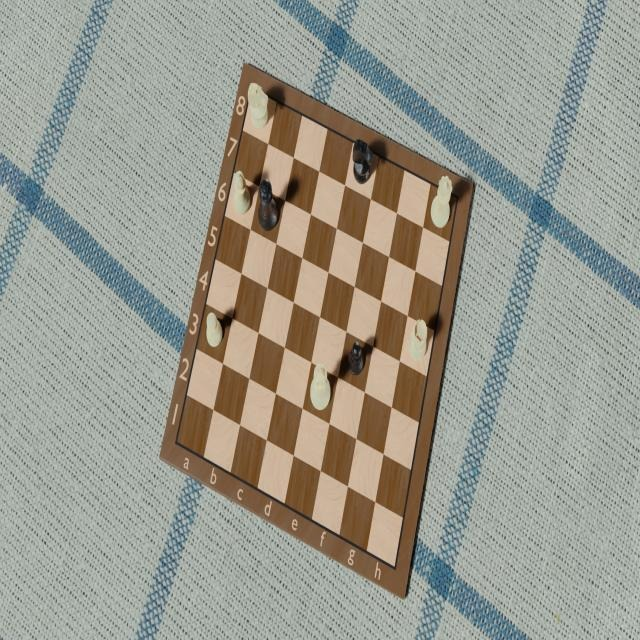black-king: (256, 177, 280, 231)
black-knight: (350, 137, 373, 187)
black-pawn: (346, 339, 366, 381)
white-bishop: (230, 170, 254, 213)
white-king: (307, 363, 334, 417)
white-knight: (246, 83, 270, 132)
white-pawn: (204, 311, 224, 349)
white-queen: (430, 170, 453, 234)
white-rook: (406, 314, 430, 366)
